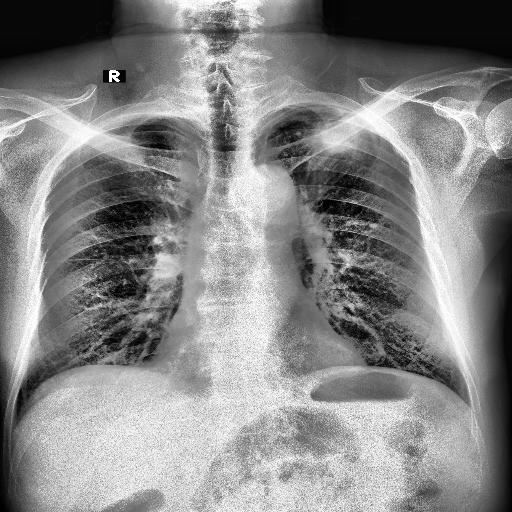0- Aortic enlargement: (231, 162, 302, 246), (228, 164, 300, 216), (239, 164, 295, 210)
11- Pleural thickening: (108, 110, 186, 122), (256, 102, 326, 112)
13- Pulmonary fibrosis: (302, 122, 350, 198), (303, 146, 341, 187)
7- Lung Opacity: (321, 130, 352, 154)
8- Nodule-Mass: (322, 133, 352, 153), (368, 222, 378, 228), (294, 130, 302, 136), (296, 131, 301, 135)
